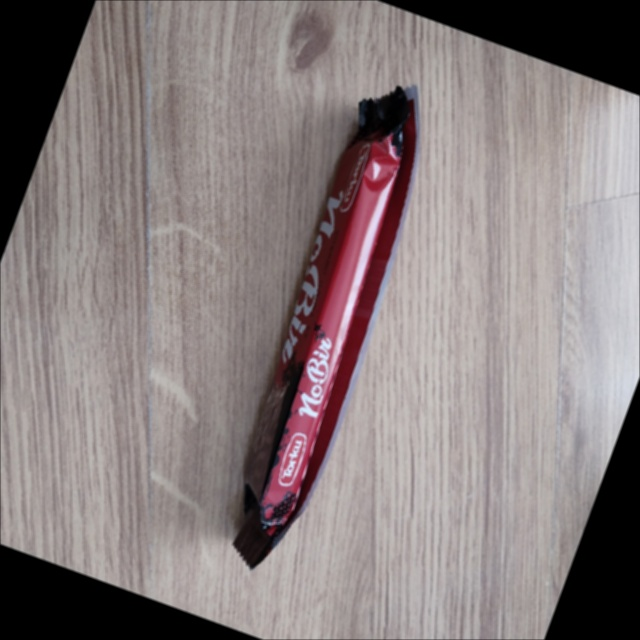torku_nobir_gofret: (230, 87, 418, 567)
